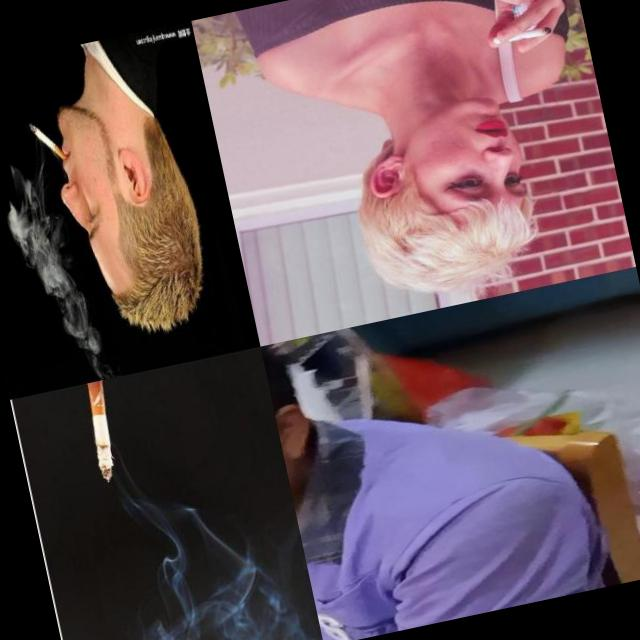cigarette: (80, 381, 124, 485), (26, 114, 68, 170), (487, 20, 555, 50)
